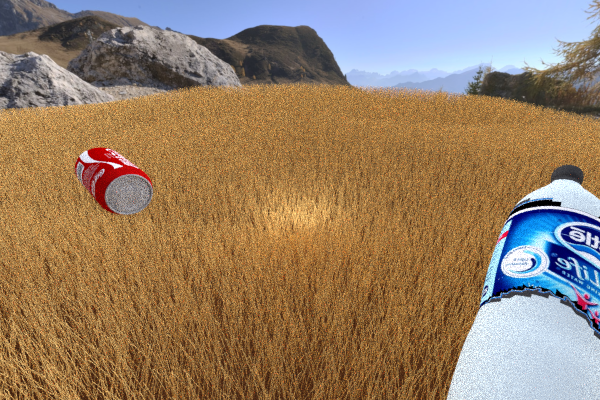Plastic Bottle: (444, 164, 600, 400), (74, 147, 152, 214)
